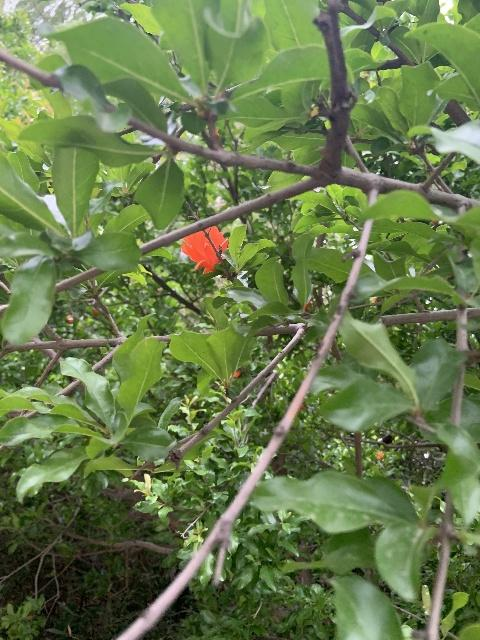flower: (180, 226, 228, 273)
